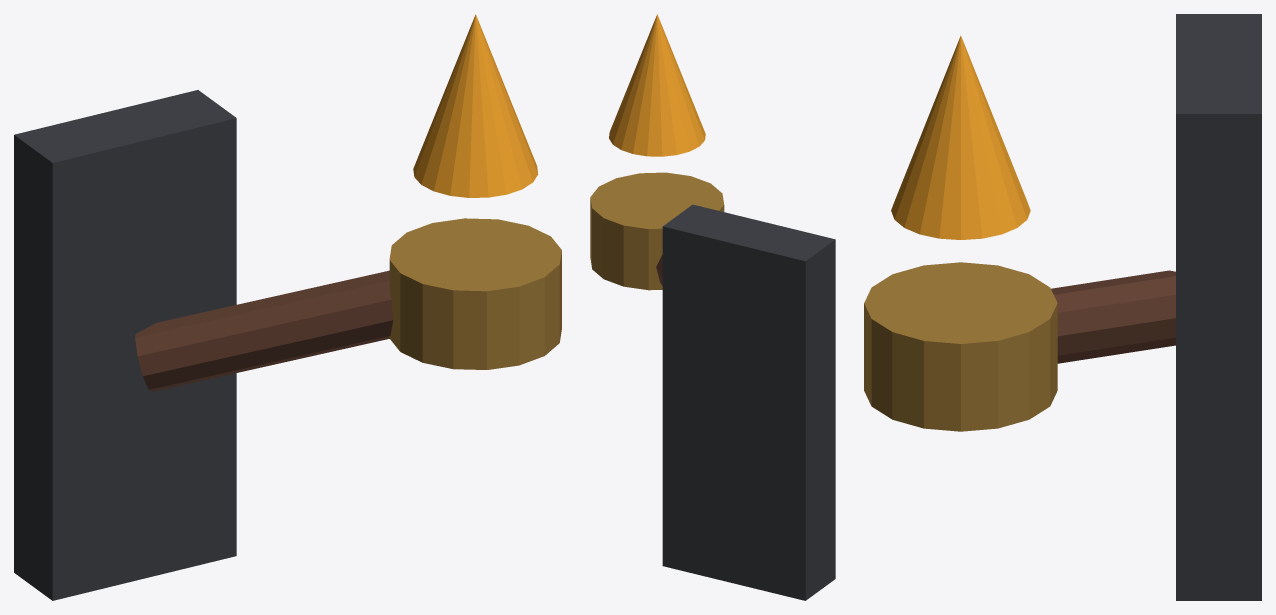
Rendered from WallTorch_Gothic.obj.
The picture shows the model from 3 angles, left to right: view 1: azimuth 30°, elevation 25°; view 2: azimuth 150°, elevation 25°; view 3: azimuth 270°, elevation 25°; orthographic projection. The views are drawn at different scales.
Visible parts, largest first — view 1: Plaque, Cup, Bracket, Flame; view 2: Plaque, Cup, Flame; view 3: Plaque, Cup, Flame, Bracket.
Part boxes in pixels (box(x1,y1,x2,y2)): Plaque: box(14, 90, 236, 600); Cup: box(389, 218, 561, 369); Bracket: box(135, 270, 393, 391); Flame: box(413, 14, 538, 197); Plaque: box(662, 204, 835, 600); Cup: box(590, 172, 724, 290); Flame: box(609, 14, 705, 156); Plaque: box(1176, 14, 1261, 600); Cup: box(864, 262, 1057, 431); Flame: box(891, 35, 1030, 239); Bracket: box(1051, 270, 1175, 363).
Size of the model in its own units: 0.48 by 0.66 by 0.37.
